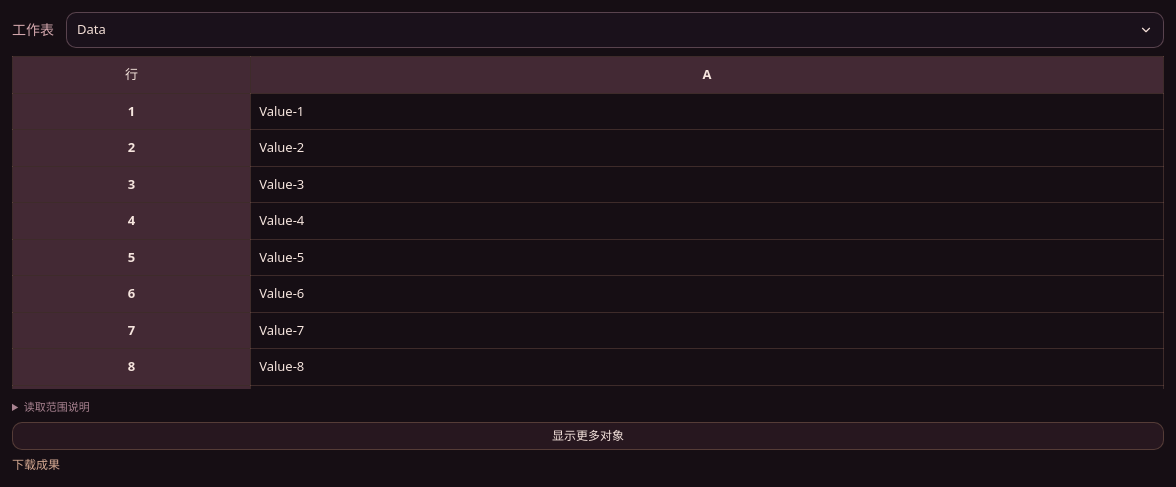
Test: allows loading workbook cells beyond the first preview batch
Expected: the text "Value-1" is shown, [259,102,304,120]
Expected: the text "Value-51" is not shown
Click the button "显示更多对象". click: [588, 436]
box: [12,422,1164,450]
(page scrolled)
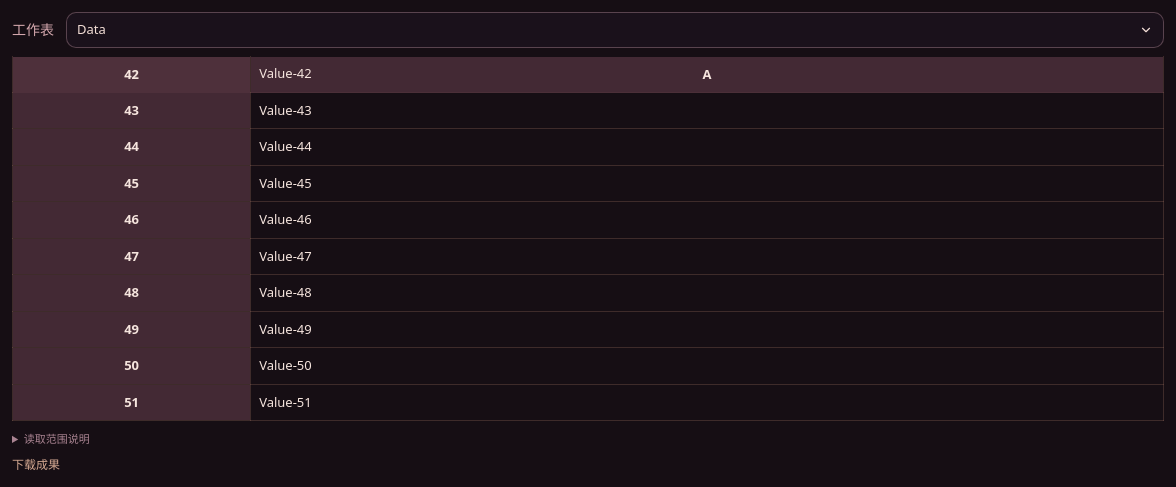
Expected: the text "Value-51" is shown, [259,392,312,410]
